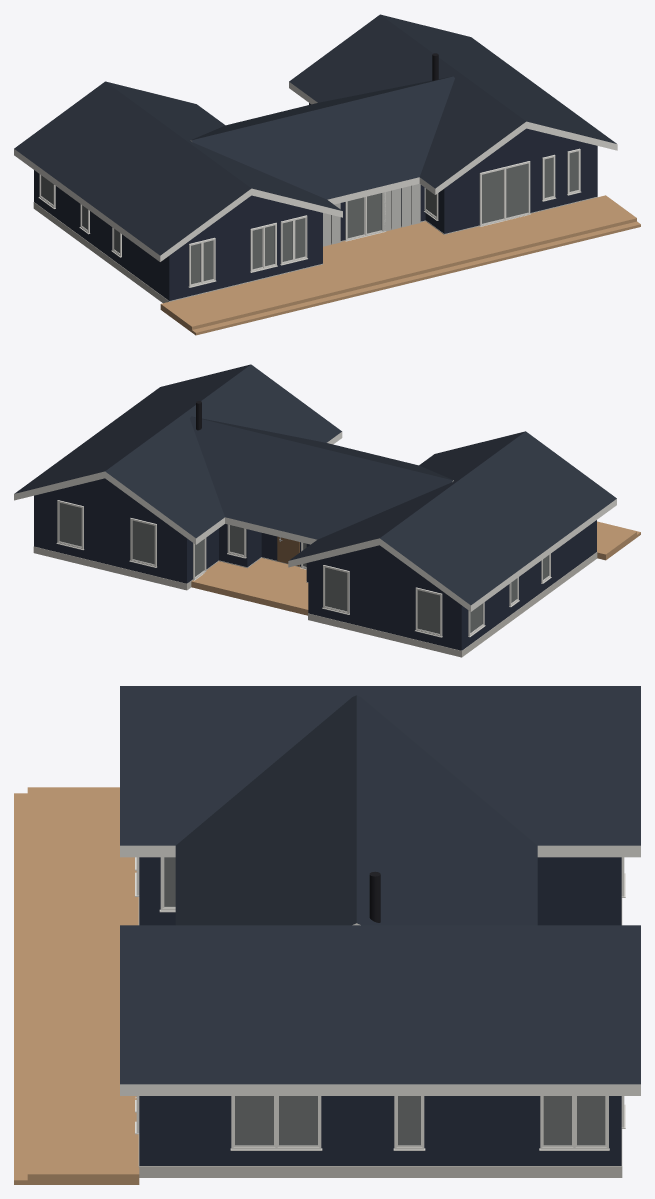
File: teder187_c0_p1_m0.glb
3 renders of one model, top to bottom at view 1: azimuth 30°, elevation 25°; view 2: azimuth 150°, elevation 25°; view 3: azimuth 270°, elevation 25°, orthographic. The views are drawn at different scales.
Visible parts, largest first — view 1: roof, deck, wall, glass, curtain, fascia, frame, panel, plinth; view 2: roof, wall, deck, glass, curtain, fascia, plinth, frame, door; view 3: roof, deck, wall, curtain, glass, fascia, plinth, frame.
Boxes of the visible parts, box(x1,y1,x2,y2) form: roof: box(14, 14, 616, 255); deck: box(160, 195, 640, 335); wall: box(34, 103, 597, 300); glass: box(41, 151, 578, 284); curtain: box(41, 151, 577, 283); fascia: box(14, 82, 617, 261); frame: box(38, 148, 581, 287); panel: box(323, 184, 420, 246); plinth: box(33, 196, 597, 303); roof: box(14, 364, 616, 605); wall: box(34, 478, 596, 650); deck: box(191, 521, 640, 615); glass: box(59, 503, 548, 633); curtain: box(59, 503, 548, 633); fascia: box(14, 432, 616, 611); plinth: box(33, 546, 597, 657); frame: box(56, 500, 551, 637); door: box(277, 536, 299, 566); roof: box(120, 686, 640, 1084); deck: box(14, 787, 139, 1184); wall: box(139, 857, 621, 1165); curtain: box(164, 857, 605, 1145); glass: box(164, 857, 605, 1145); fascia: box(120, 845, 640, 1095); plinth: box(138, 897, 622, 1177); frame: box(135, 857, 625, 1150).
Bounding box in the file's own units: 21.93 × 5.66 × 14.62.
Materials: 13 (5 with a texture image).
